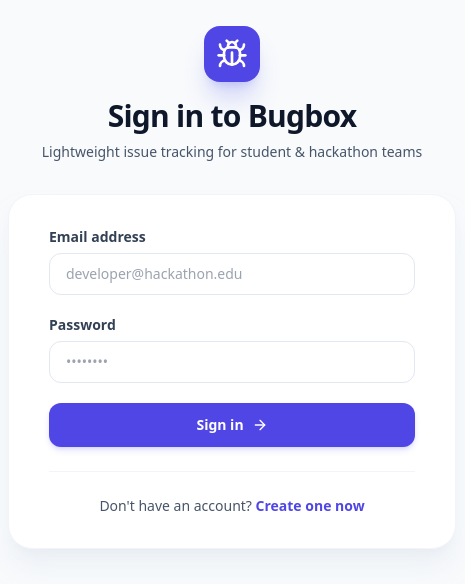
Test: LoginPage Form Component › displays error when email format is invalid
Type "not-an-email" into the field labelled "Email address" at (232, 274), box [49,252,415,294]
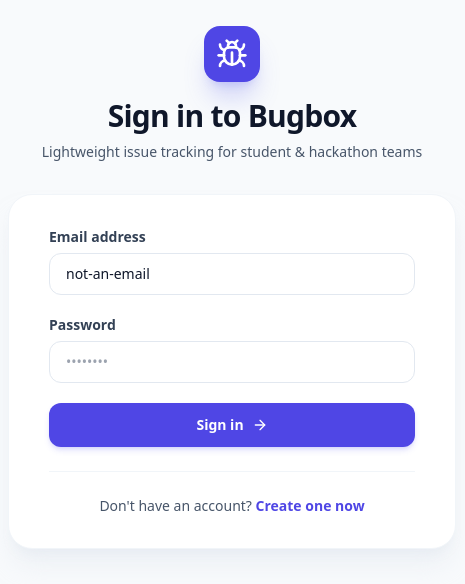
Type "Password123!" into the password field labelled "Password" at (232, 362), box [49,340,415,382]
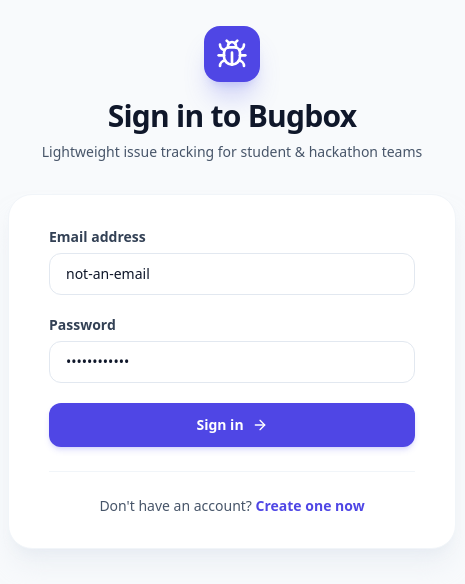
Click the button "Sign in" at (232, 424), box [49,402,415,446]
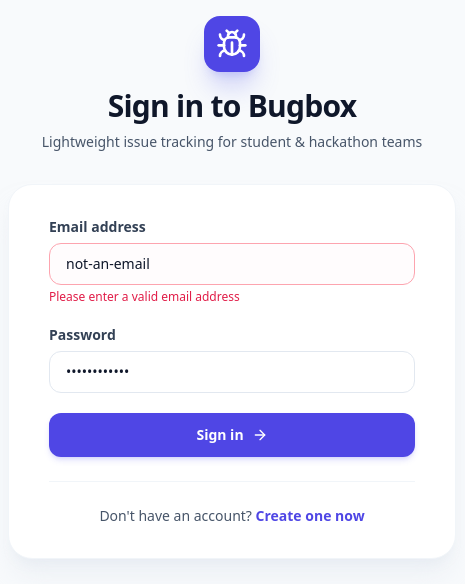
Result: the text "Please enter a valid email address" is shown at [49,288,240,304]
